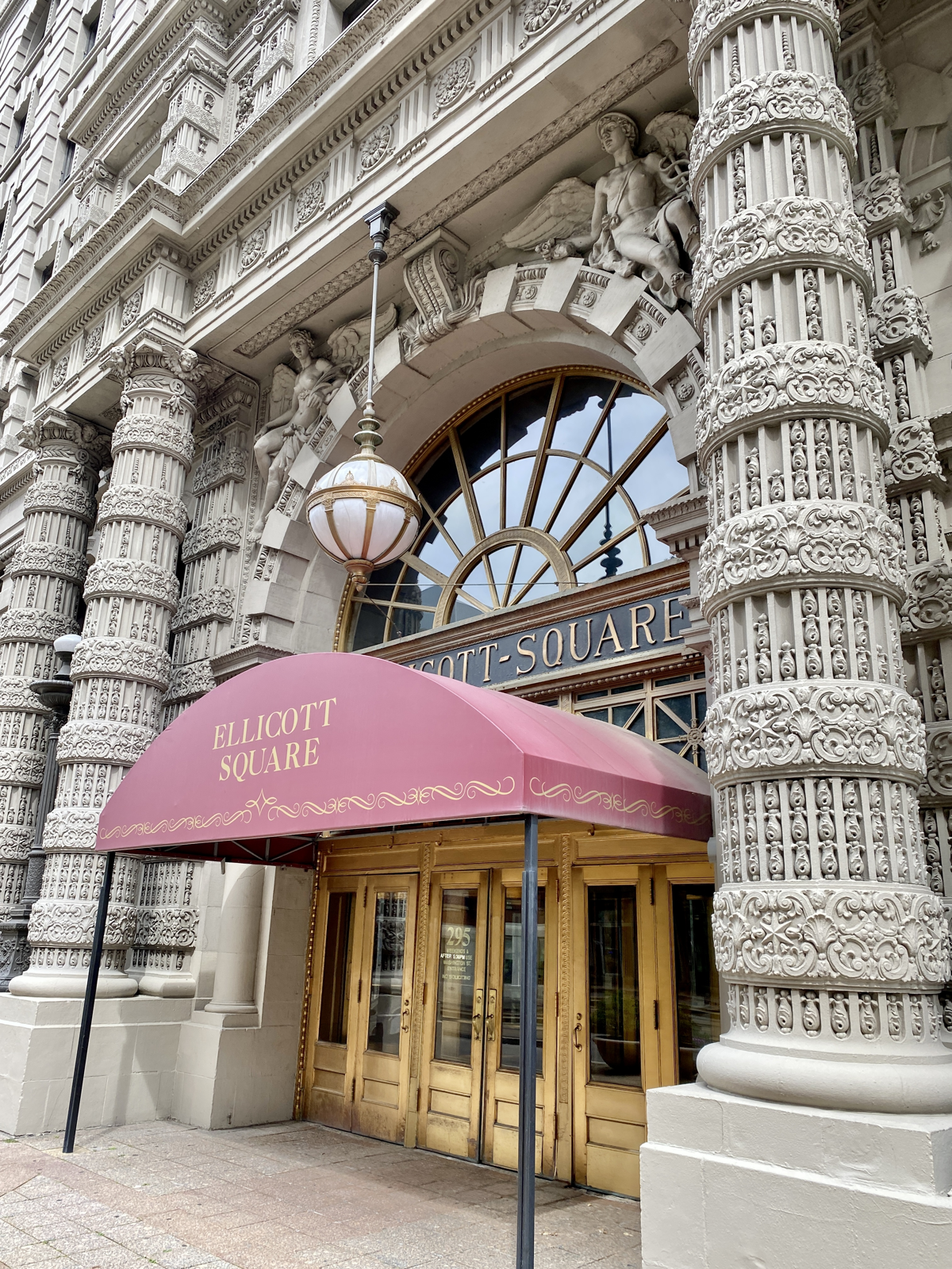fachada: (4, 4, 952, 1269)
